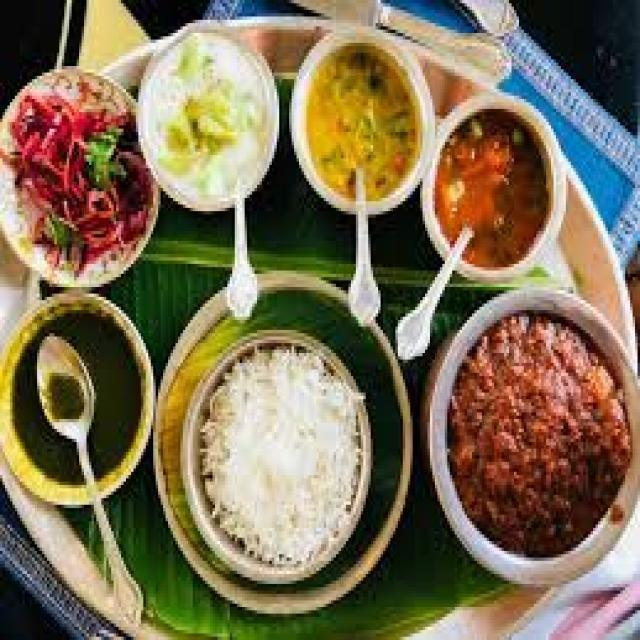curd: (173, 334, 379, 584), (140, 37, 277, 208)
dal: (301, 53, 425, 209)
sambar-rasam: (420, 111, 559, 272)
veg: (429, 303, 629, 553)
